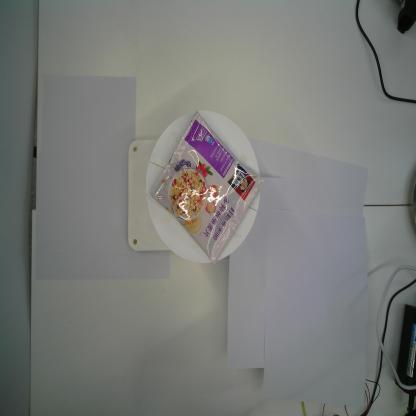Instant Drink: (148, 110, 264, 266)
